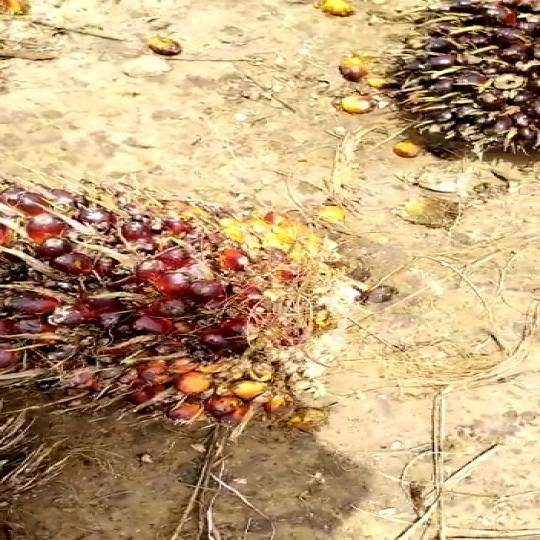masak: (0, 191, 414, 445)
